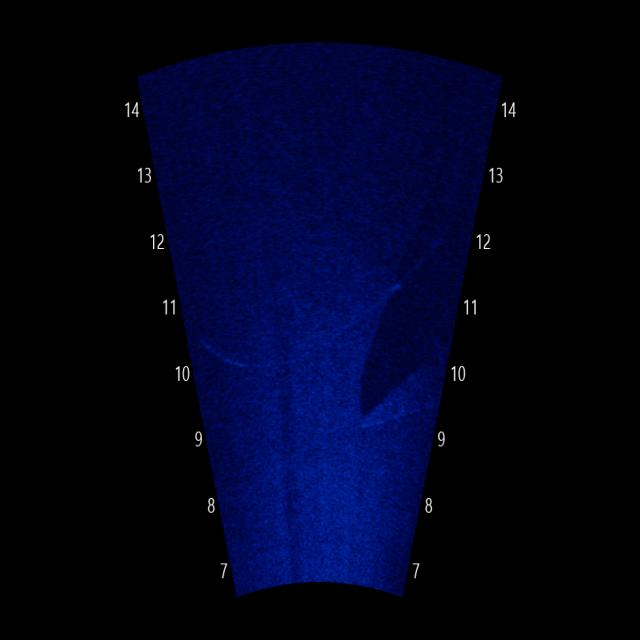triangle: (360, 343, 454, 433)
